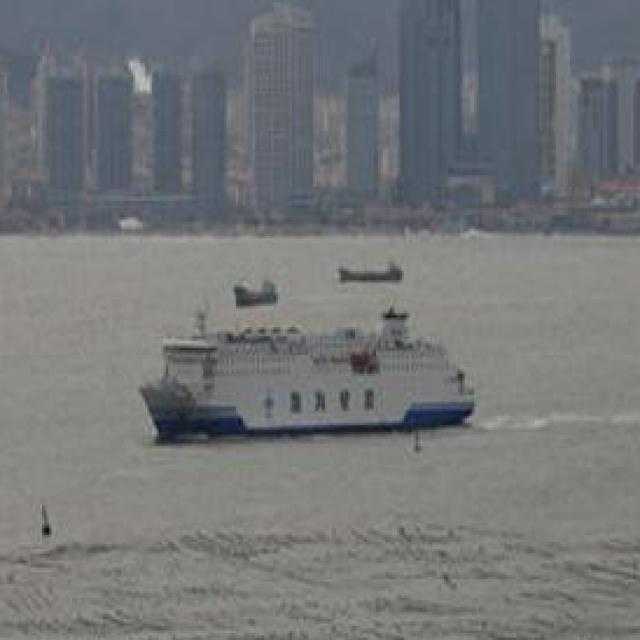cargoship: (331, 258, 411, 286), (225, 276, 278, 308)
passenger ship: (138, 308, 475, 440)
